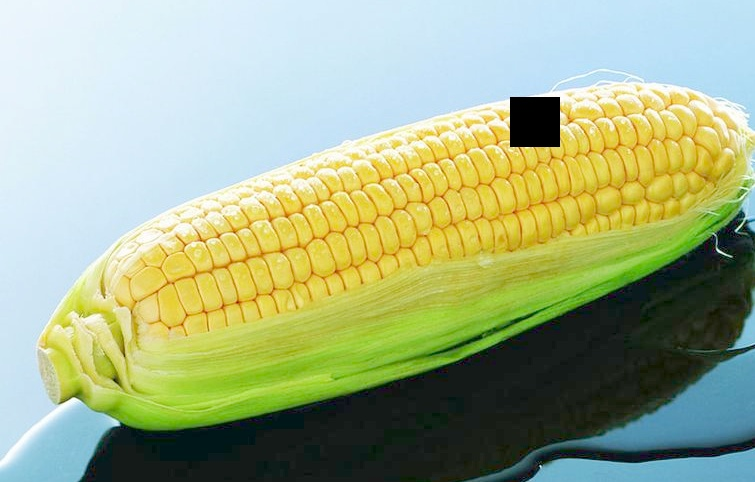corn: (43, 73, 748, 437)
